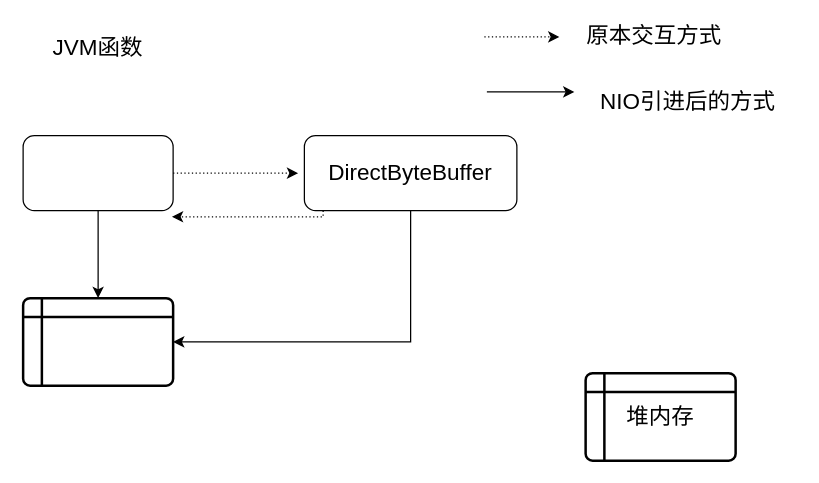
Image size: 819x483. Some labels were removed from this diagram. The centre of each missing label's shape, as x and y in pixels:
Native函数分配堆外内存: point 97,172
堆外内存: point 97,341
